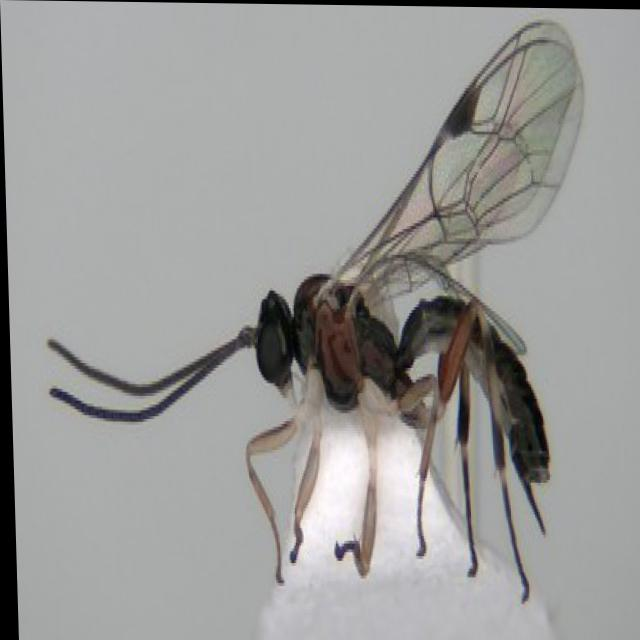Guepe: (17, 2, 600, 604)
